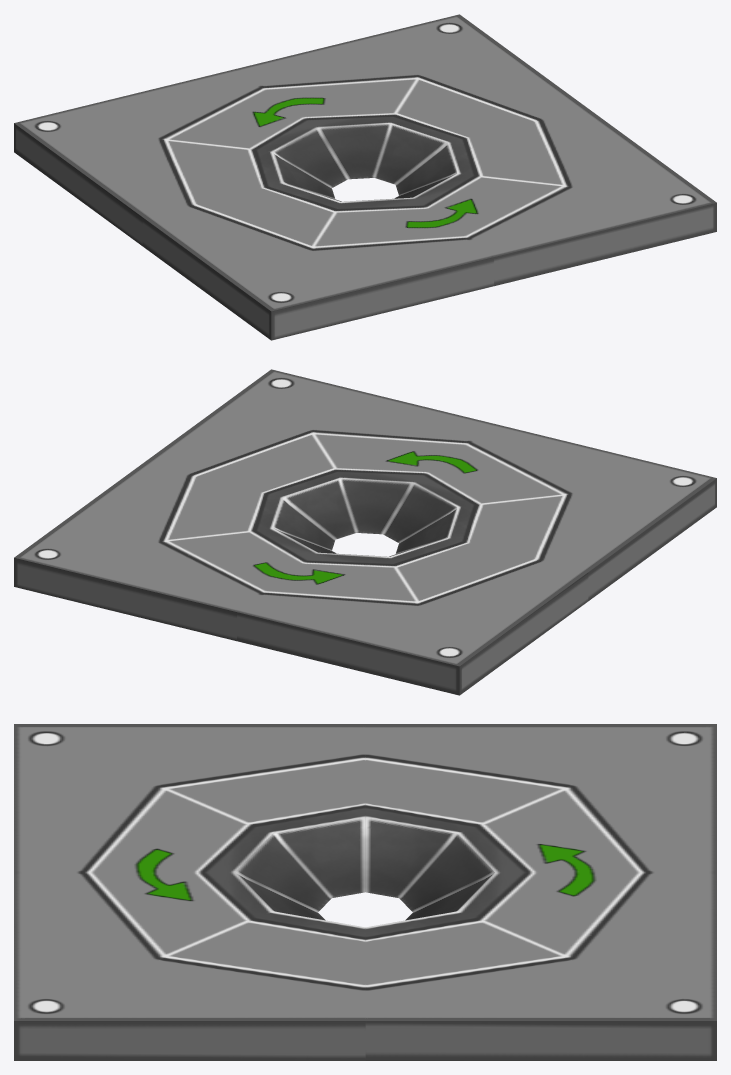
File: space_hole.gltf
The picture shows the model from 3 angles, top to bottom: view 1: azimuth 30°, elevation 25°; view 2: azimuth 150°, elevation 25°; view 3: azimuth 270°, elevation 25°; orthographic projection. The views are drawn at different scales.
Visible parts, largest first — view 1: space_hole_glb; view 2: space_hole_glb; view 3: space_hole_glb.
Boxes of the visible parts, <box> form: space_hole_glb: <box>14,14,716,340</box>; space_hole_glb: <box>14,369,716,695</box>; space_hole_glb: <box>14,724,716,1060</box>.
Size of what is drawn, in the model's own units: 4 by 0.25 by 4.
1 material, 1 textured.
